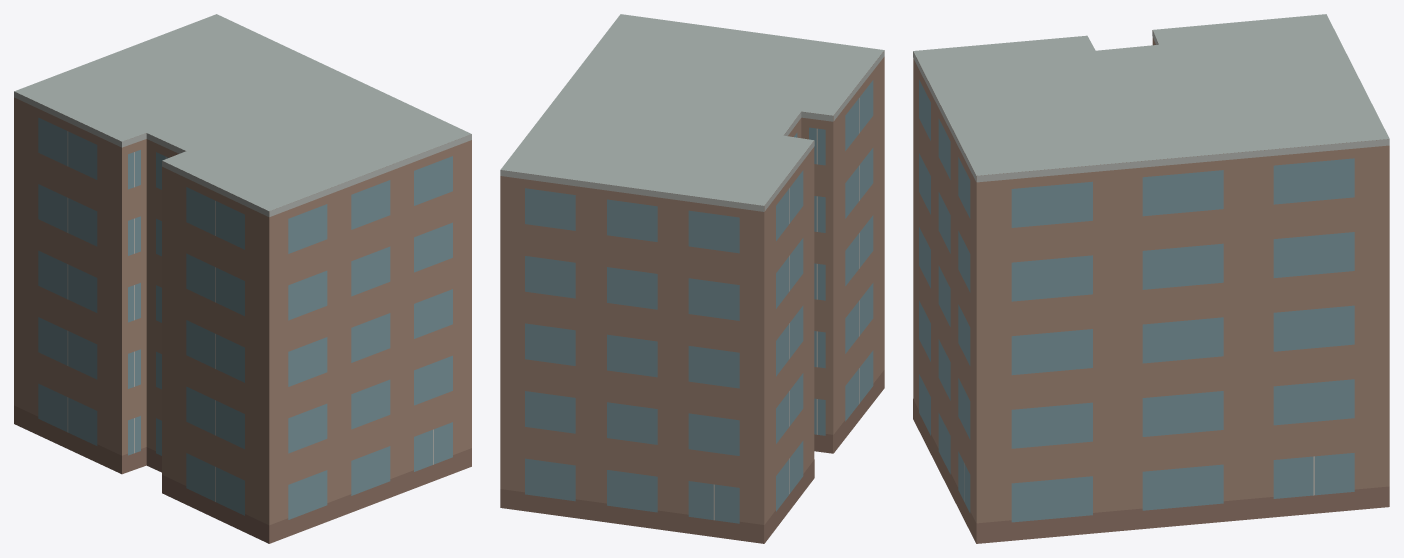
Rendered from survey-upis-32937846.glb.
3 renders of one model, left to right at view 1: azimuth 30°, elevation 25°; view 2: azimuth 150°, elevation 25°; view 3: azimuth 270°, elevation 25°, orthographic. The views are drawn at different scales.
Parts seen in each view (by area): view 1: survey-upis-32937846.tmp; view 2: survey-upis-32937846.tmp; view 3: survey-upis-32937846.tmp.
Boxes of the visible parts, left/top/right/bottom form: survey-upis-32937846.tmp: left=14, top=14, right=471, bottom=543; survey-upis-32937846.tmp: left=500, top=14, right=884, bottom=543; survey-upis-32937846.tmp: left=913, top=14, right=1389, bottom=543.
Bounding box in the file's own units: 12.83 × 13.6 × 15.97.
